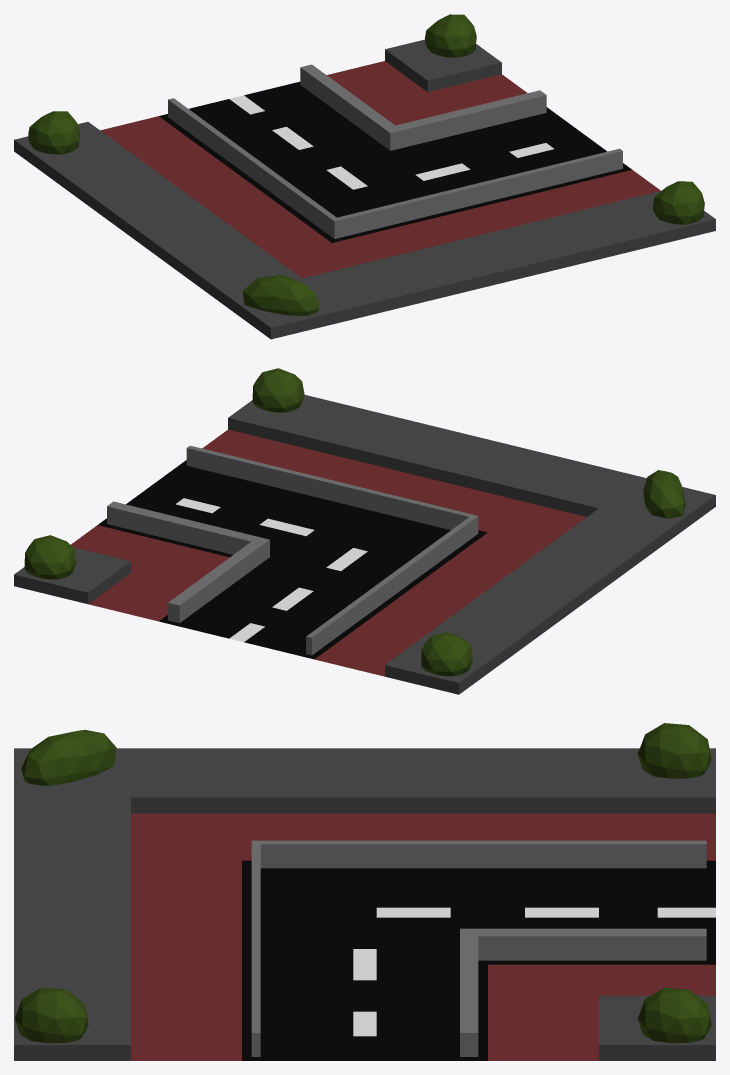
Rendered from RoadCornerLvl1.fbx.
3 renders of one model, top to bottom at view 1: azimuth 30°, elevation 25°; view 2: azimuth 150°, elevation 25°; view 3: azimuth 270°, elevation 25°, orthographic. The views are drawn at different scales.
Visible parts, largest first — view 1: RoadCornerLvl1.001; view 2: RoadCornerLvl1.001; view 3: RoadCornerLvl1.001.
Part boxes in pixels (bbox=[...]): RoadCornerLvl1.001: bbox=[14, 14, 715, 339]; RoadCornerLvl1.001: bbox=[14, 368, 715, 694]; RoadCornerLvl1.001: bbox=[14, 723, 715, 1060].
Bounding box in the file's own units: 800 × 83.28 × 800.
